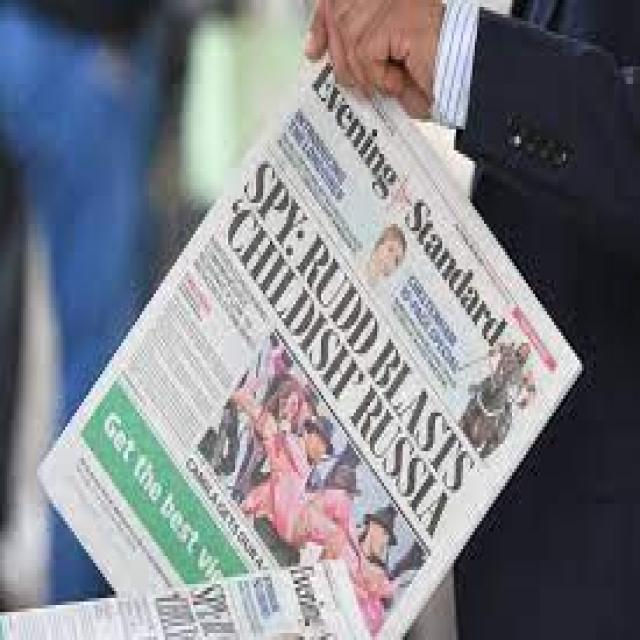newspaper: (45, 69, 576, 640)
